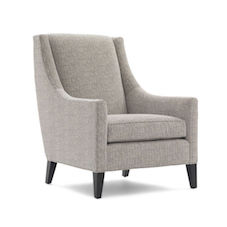chair: (17, 20, 210, 217)
